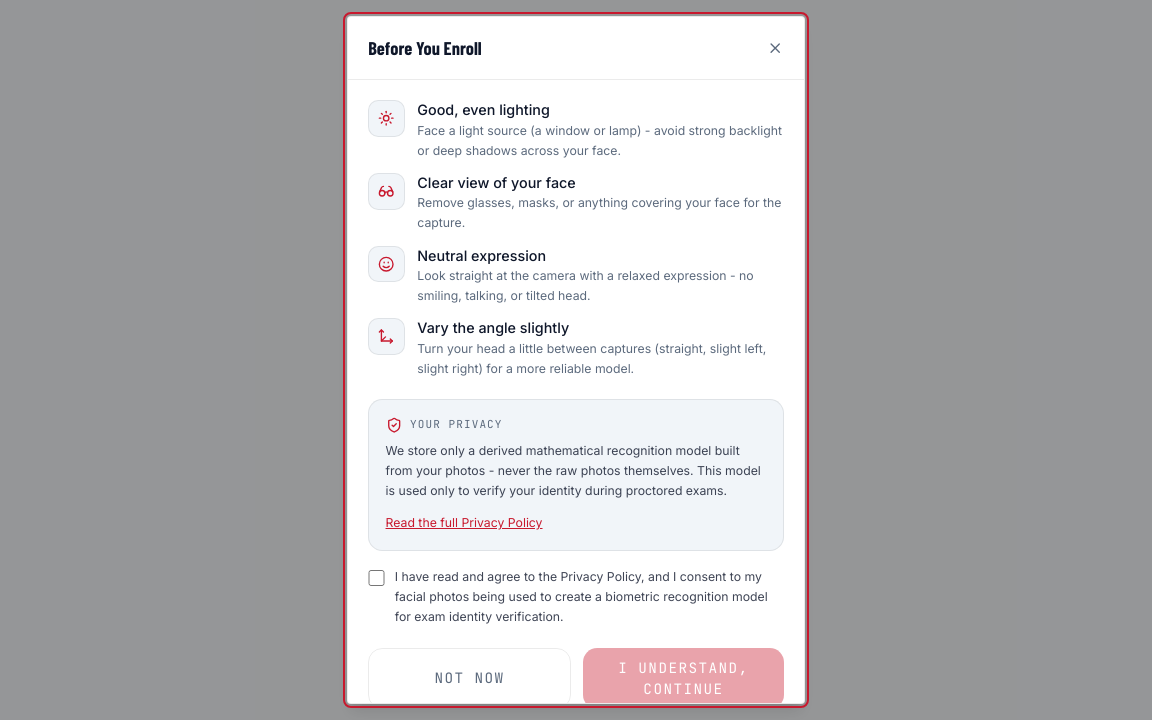
Test: Face enrollment consent — a choice needs both answers › keeps Continue disabled until the consent box is ticked
Expected: the button "I Understand, Continue" is disabled, [583,648,784,703]
What coordinates should you click on to do the following:
click the checkbox
I would click on:
 (376, 578)
Its box is [368,570,385,586].
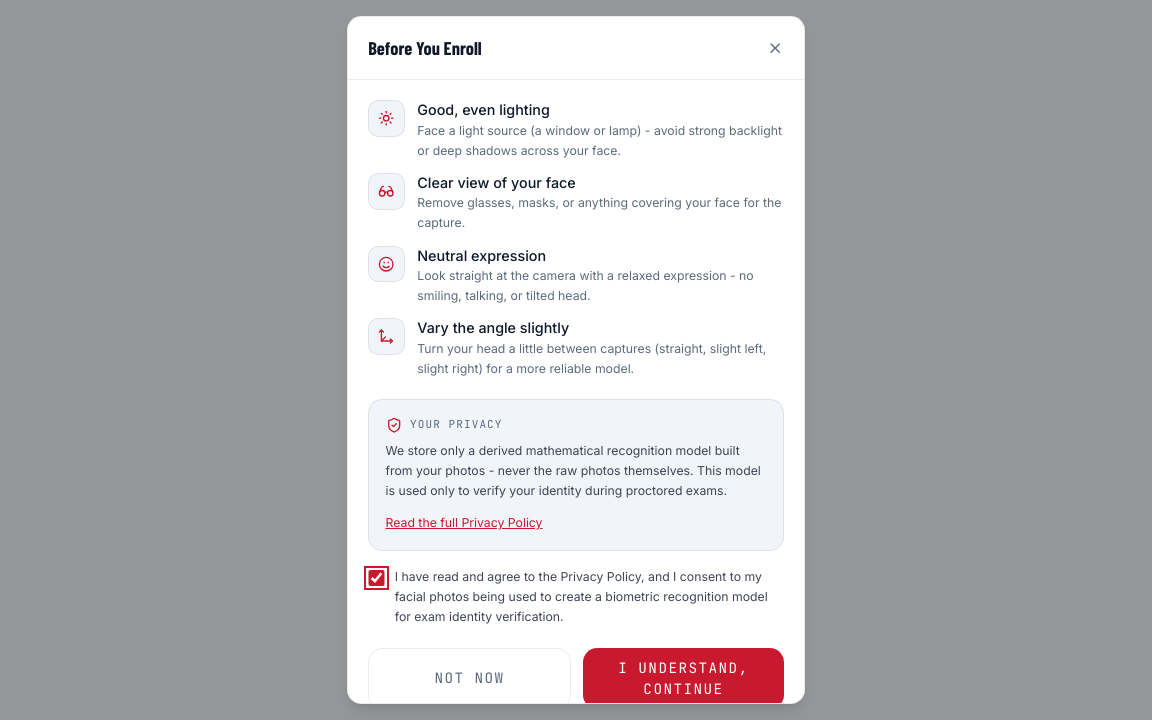
Expected: the button "I Understand, Continue" is enabled, [583,648,784,703]
